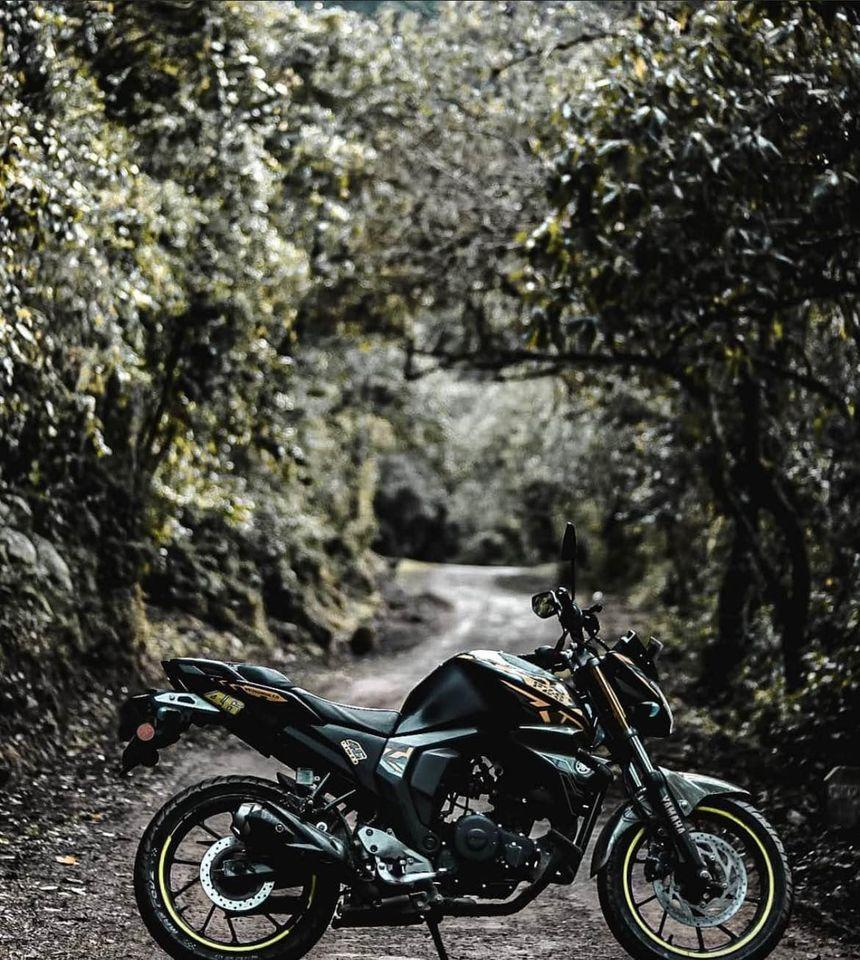bike: (110, 567, 803, 960)
